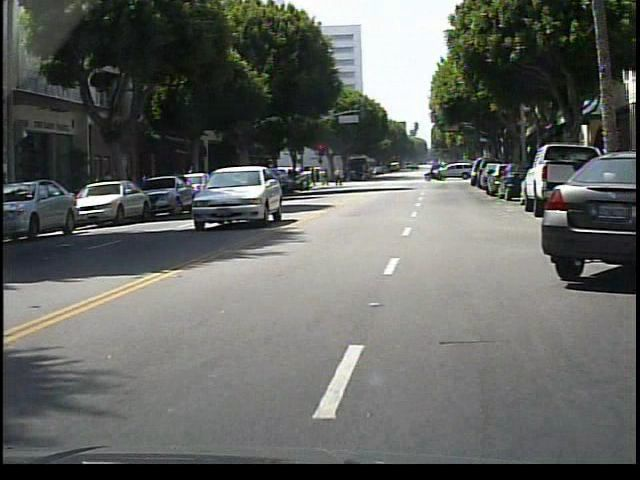person: (328, 163, 348, 192)
